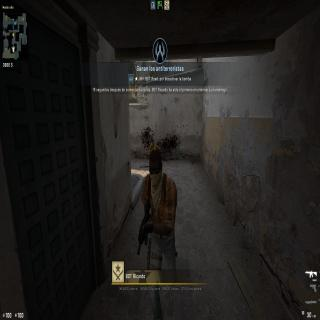T-Head: (148, 149, 163, 189)
